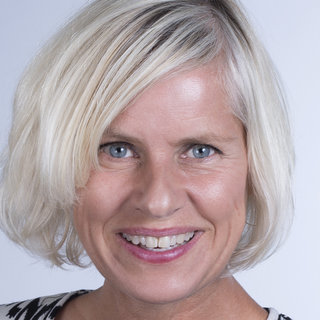eye: (176, 139, 225, 164), (95, 138, 142, 164)
